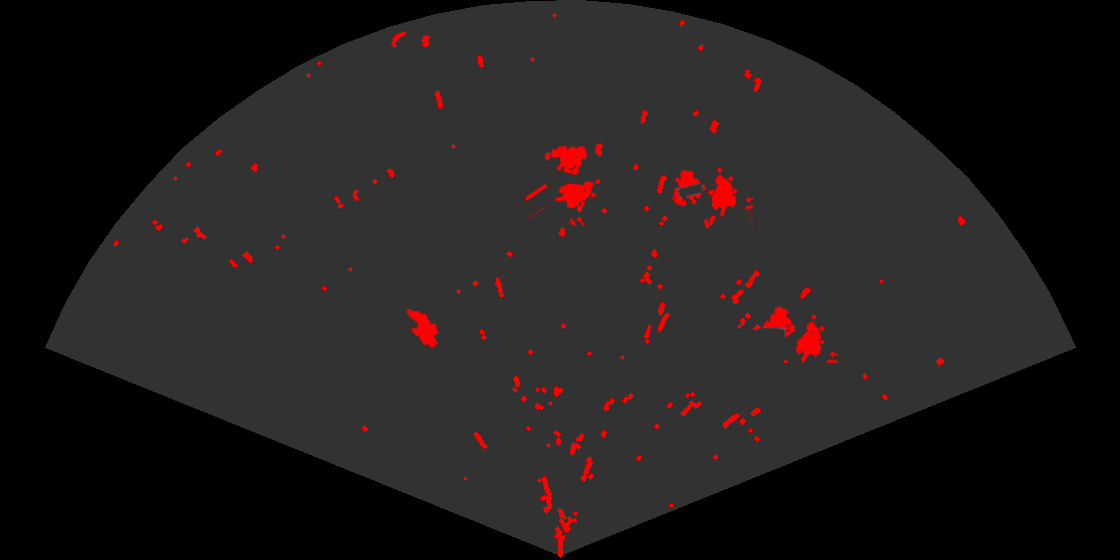AUV: (405, 307, 440, 350)
cage: (526, 144, 602, 226), (672, 166, 753, 228), (761, 305, 838, 363)
